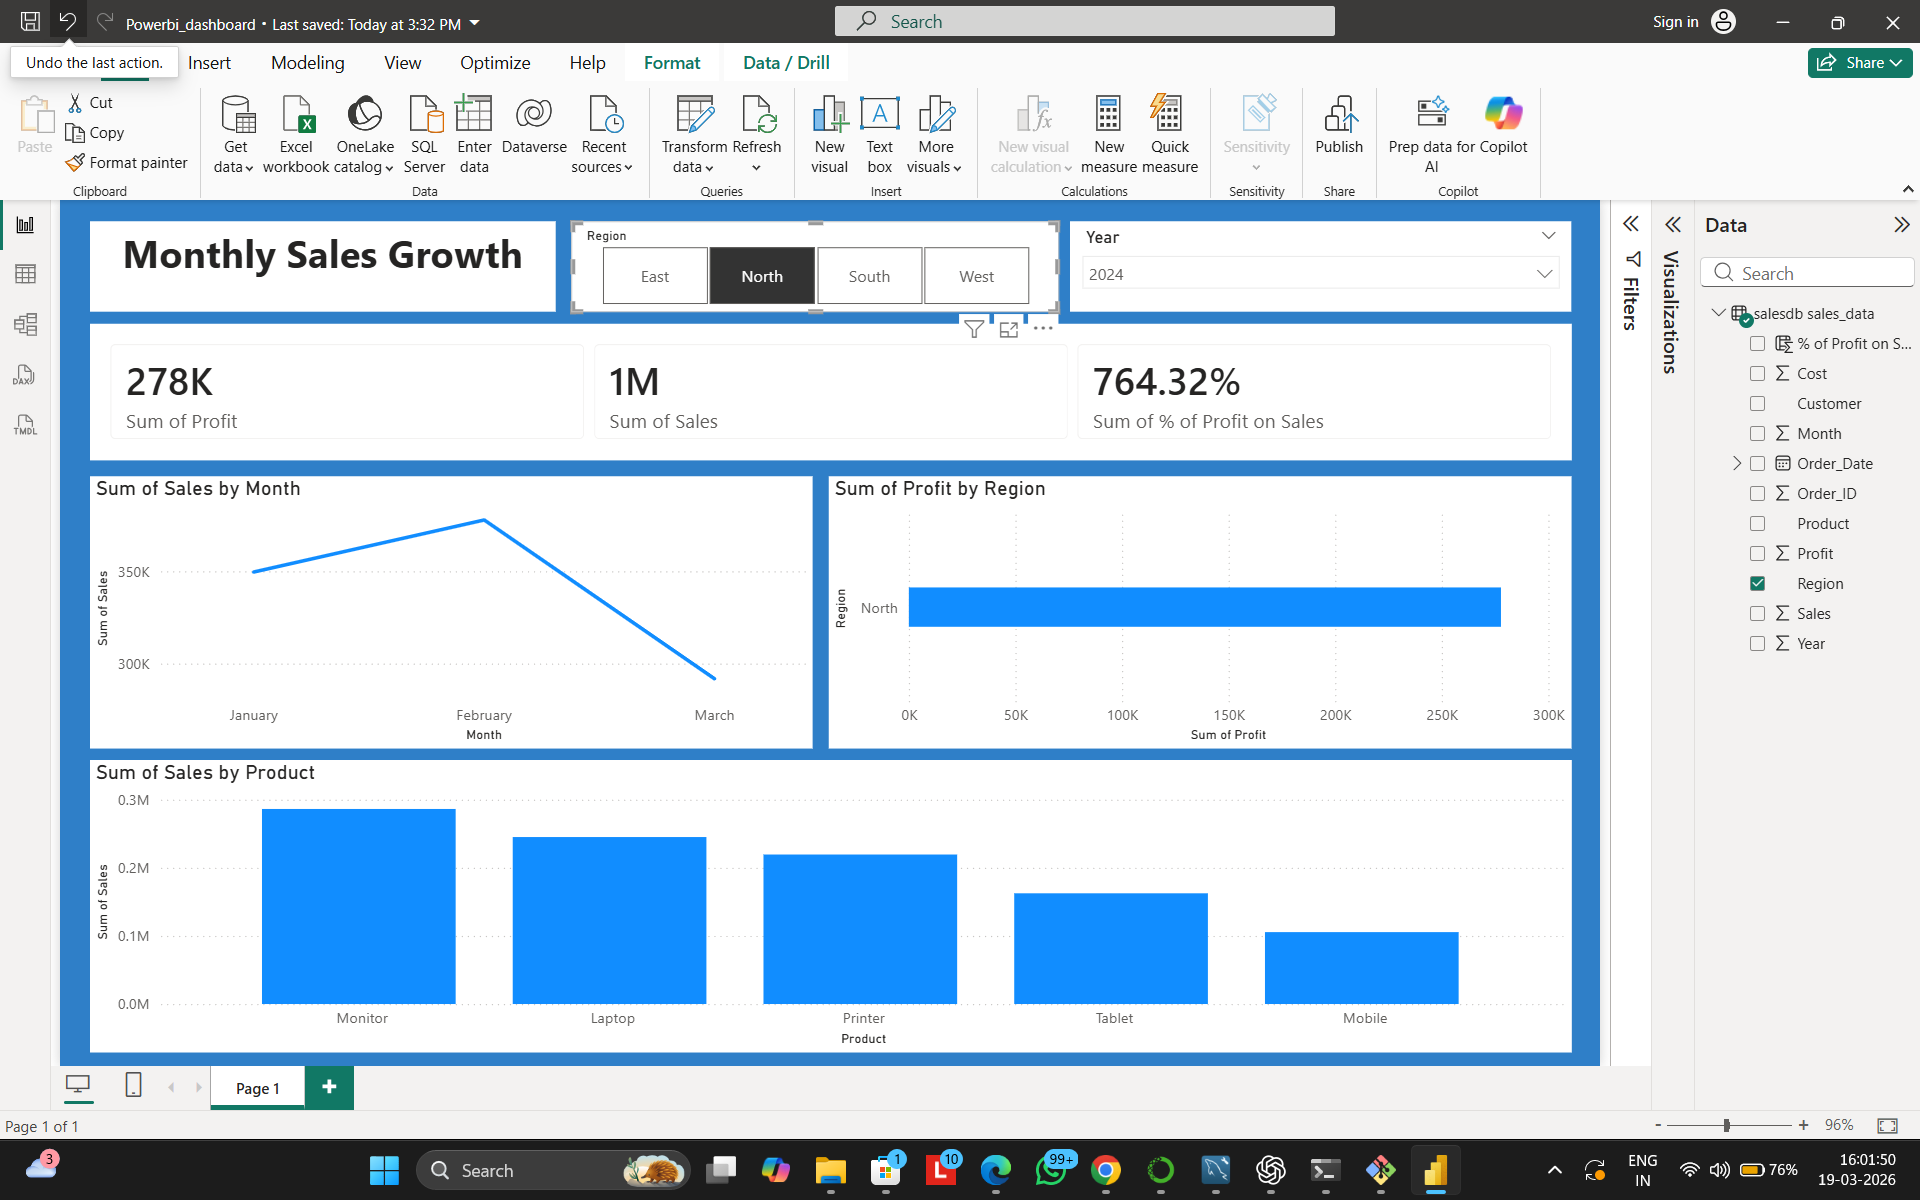

This screenshot's page, from the dashboard's own definition file:
{"tool":"powerbi","page":{"name":"Page 1","canvas":[1280,720],"ordinal":0},"visuals":[{"type":"cardVisual","fields":{"Data":["Sum(salesdb sales_data.Profit)","Sum(salesdb sales_data.Sales)","Sum(salesdb sales_data.% of Profit on Sales)"]},"box":[24.7,102.9,1232.3,113.9],"z":0},{"type":"lineChart","fields":{"Category":["salesdb sales_data.Order_Date.Variation.Date Hierarchy.Month"],"Y":["Sum(salesdb sales_data.Sales)"]},"box":[24.7,229.2,601,226.4],"z":1000},{"type":"barChart","fields":{"Category":["salesdb sales_data.Region"],"Y":["Sum(salesdb sales_data.Profit)"]},"box":[639.5,229.2,617.5,226.4],"z":2000},{"type":"columnChart","fields":{"Category":["salesdb sales_data.Product"],"Y":["Sum(salesdb sales_data.Sales)"]},"box":[24.7,465.2,1232.3,242.9],"z":3000},{"type":"slicer","fields":{"Values":["salesdb sales_data.Order_Date.Variation.Date Hierarchy.Year"]},"box":[839.8,17.8,417.2,75.5],"z":3001},{"type":"slicer","fields":{"Values":["salesdb sales_data.Region"]},"box":[425.4,17.8,404.8,75.5],"z":3002},{"type":"textbox","box":[24.7,17.8,387,75.5],"z":3003}]}

Visuals, with their boxes on the page's 1280x720 design canvas (x1, y1, x2, y2). These are canvas units, not pixel positions in the 1920x1200 screenshot, which may show the page scaled, cropped or inside an application window:
cardVisual - Sum(salesdb sales_data.Profit) x Sum(salesdb sales_data.Sales): Rect(25, 103, 1257, 217)
lineChart - salesdb sales_data.Order_Date.Variation.Date Hierarchy.Month x Sum(salesdb sales_data.Sales): Rect(25, 229, 626, 456)
barChart - salesdb sales_data.Region x Sum(salesdb sales_data.Profit): Rect(640, 229, 1257, 456)
columnChart - salesdb sales_data.Product x Sum(salesdb sales_data.Sales): Rect(25, 465, 1257, 708)
slicer - salesdb sales_data.Order_Date.Variation.Date Hierarchy.Year: Rect(840, 18, 1257, 93)
slicer - salesdb sales_data.Region: Rect(425, 18, 830, 93)
textbox: Rect(25, 18, 412, 93)
